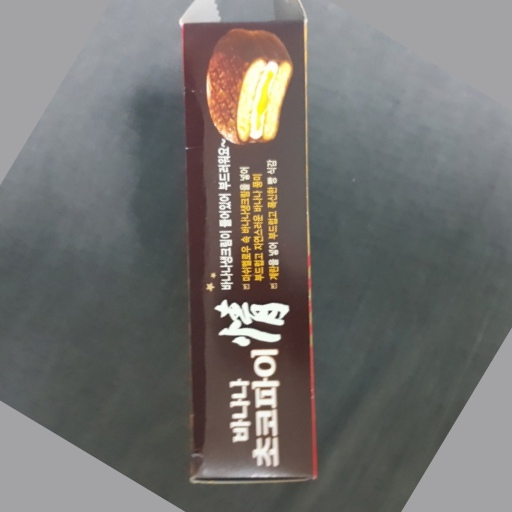Paper_0: (182, 1, 334, 487)
